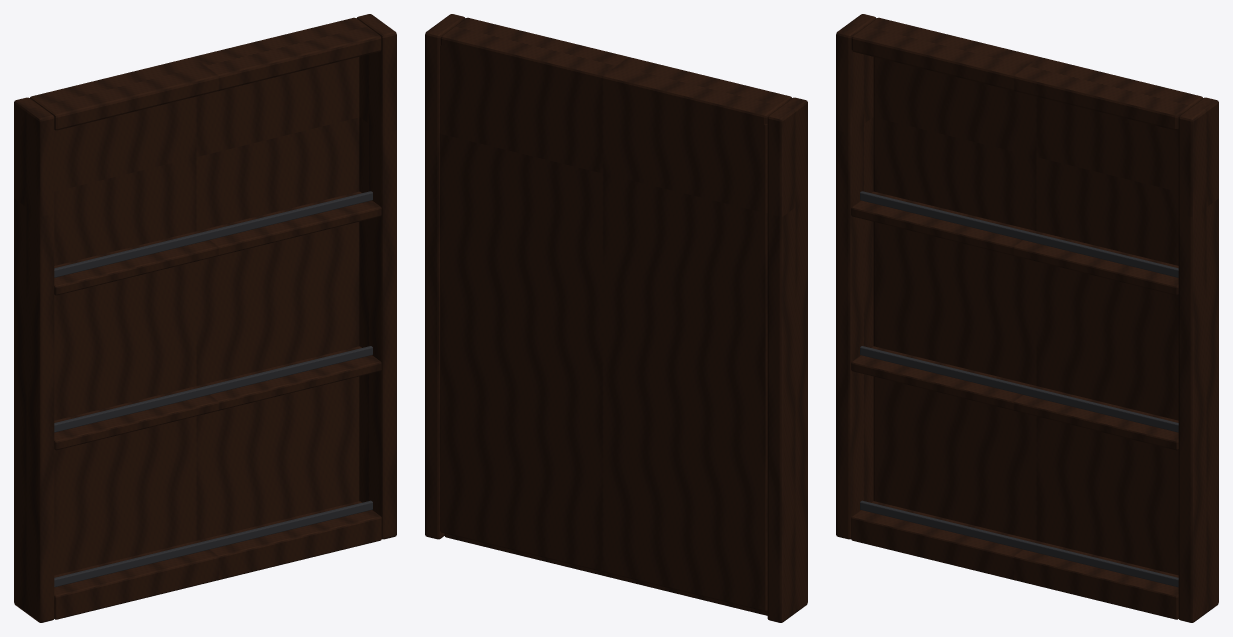
File: graded_slab_rack.glb
3 views of the same model, side by side, from view 1: azimuth 30°, elevation 25°; view 2: azimuth 150°, elevation 25°; view 3: azimuth 330°, elevation 25° (orthographic).
Visible parts, largest first — view 1: back_board, cheek_-1, cheek_1, top_board, ledge_0, ledge_2, ledge_1, rail_0, rail_2, rail_1; view 2: back_board, cheek_-1, top_board, cheek_1, ledge_0; view 3: back_board, cheek_1, cheek_-1, top_board, ledge_0, ledge_2, ledge_1, rail_0, rail_2, rail_1.
Boxes of the visible parts, x1,y1,x2,y2 form: back_board: [54, 57, 359, 575]; cheek_-1: [14, 97, 54, 622]; cheek_1: [356, 14, 396, 539]; top_board: [30, 17, 381, 130]; ledge_0: [54, 501, 381, 619]; ledge_2: [54, 191, 381, 295]; ledge_1: [54, 346, 381, 450]; rail_0: [54, 500, 372, 587]; rail_2: [54, 191, 372, 277]; rail_1: [54, 346, 372, 432]; back_board: [440, 45, 767, 611]; cheek_-1: [767, 97, 807, 622]; top_board: [440, 17, 791, 124]; cheek_1: [425, 14, 465, 539]; ledge_0: [444, 533, 767, 615]; back_board: [873, 57, 1178, 575]; cheek_1: [1178, 97, 1218, 622]; cheek_-1: [836, 14, 876, 539]; top_board: [851, 17, 1202, 130]; ledge_0: [851, 501, 1178, 619]; ledge_2: [851, 191, 1178, 295]; ledge_1: [851, 346, 1178, 450]; rail_0: [860, 500, 1178, 587]; rail_2: [860, 191, 1178, 277]; rail_1: [860, 346, 1178, 432].
Size of the model in its own units: 0.46 by 0.62 by 0.06.
Materials: 2 (1 with a texture image).
